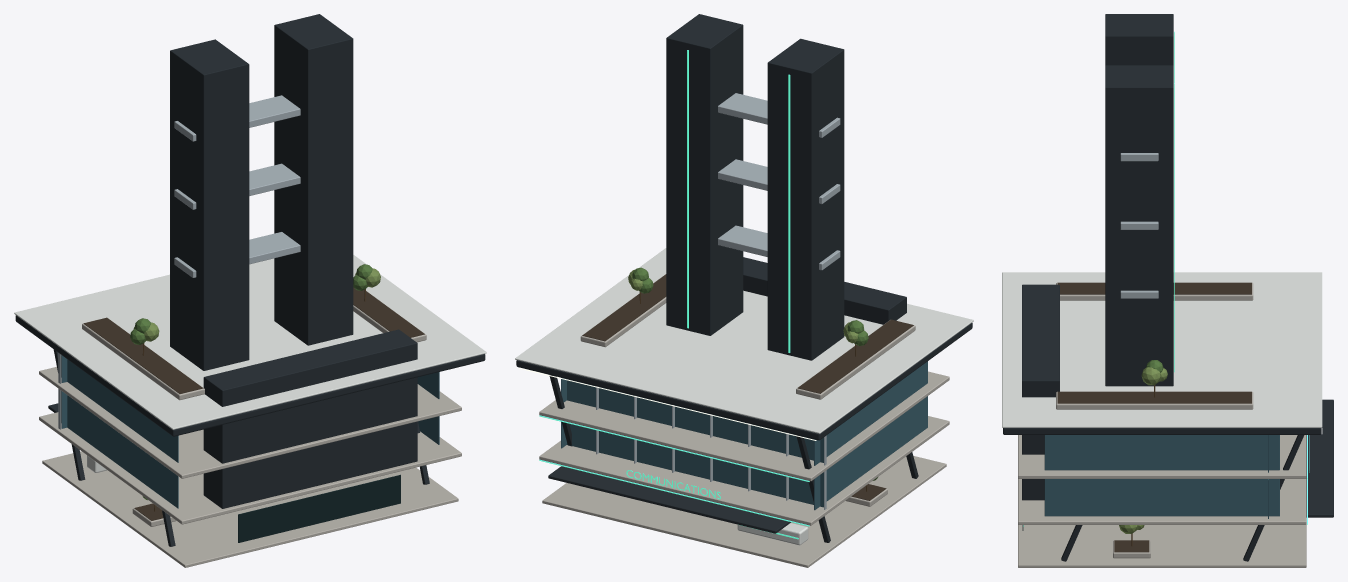
The model's file is communications.glb.
The picture shows the model from 3 angles, left to right: view 1: azimuth 30°, elevation 25°; view 2: azimuth 150°, elevation 25°; view 3: azimuth 270°, elevation 25°; orthographic projection. The views are drawn at different scales.
Parts seen in each view (by area): view 1: Communications_Graphite, Communications_Concrete, Communications_Pearl, Communications_Glazing, Mission wall.003, Communications_Metal, Communications_Soil, Communications_Leaf; view 2: Communications_Graphite, Communications_Pearl, Communications_Concrete, Communications_Glazing, Communications_Metal, Communications_Soil, Communications_Teal, Communications_Leaf; view 3: Communications_Graphite, Communications_Pearl, Communications_Concrete, Communications_Glazing, Communications_Soil, Communications_Metal, Communications_LeafLight, Communications_Teal.
Part boxes in pixels (<box>): Communications_Graphite: <box>15,14,485,546</box>; Communications_Concrete: <box>39,291,461,567</box>; Communications_Pearl: <box>14,255,486,472</box>; Communications_Glazing: <box>61,355,439,508</box>; Mission wall.003: <box>238,474,400,542</box>; Communications_Metal: <box>58,95,300,429</box>; Communications_Soil: <box>83,287,424,520</box>; Communications_Leaf: <box>130,264,372,500</box>; Communications_Graphite: <box>516,14,972,542</box>; Communications_Pearl: <box>515,248,973,545</box>; Communications_Concrete: <box>539,274,949,567</box>; Communications_Glazing: <box>561,361,927,510</box>; Communications_Metal: <box>596,93,840,509</box>; Communications_Soil: <box>582,274,913,500</box>; Communications_Teal: <box>539,50,809,539</box>; Communications_Leaf: <box>632,267,877,480</box>; Communications_Graphite: <box>1003,14,1333,561</box>; Communications_Pearl: <box>1002,272,1322,427</box>; Communications_Concrete: <box>1018,282,1306,567</box>; Communications_Glazing: <box>1044,435,1279,518</box>; Communications_Soil: <box>1057,282,1251,552</box>; Communications_Metal: <box>1120,153,1158,298</box>; Communications_LeafLight: <box>1119,367,1167,533</box>; Communications_Teal: <box>1023,31,1309,526</box>.
Size of the model in its own units: 48.2 by 65.44 by 43.7.
